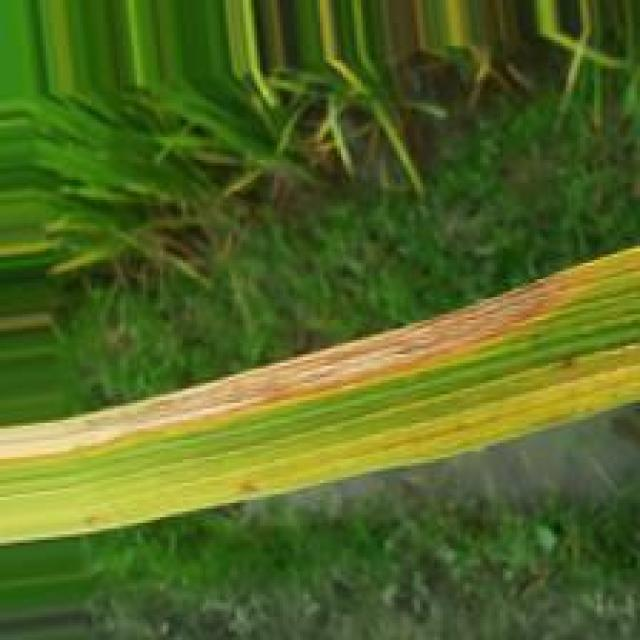Bacterial_Leaf_Blight: (0, 246, 640, 471)
